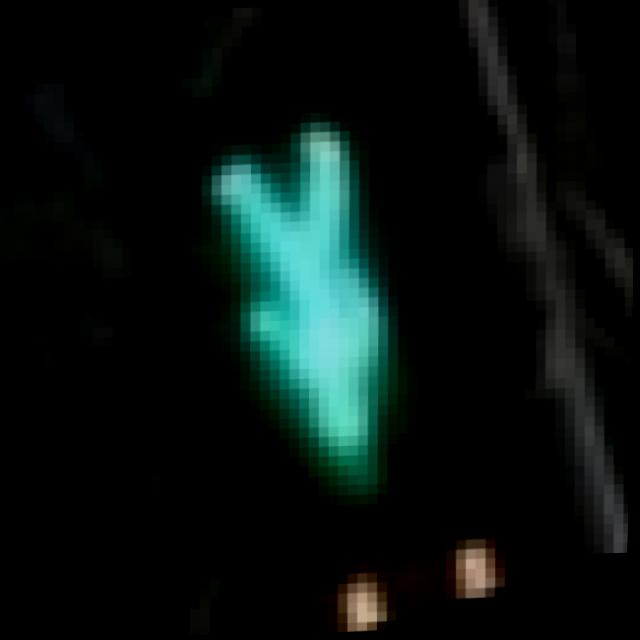green_light: (144, 86, 515, 571)
